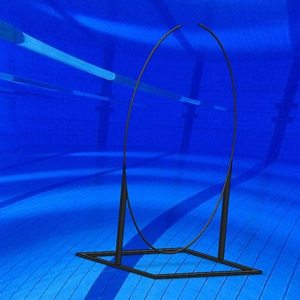circle: (75, 22, 264, 281)
